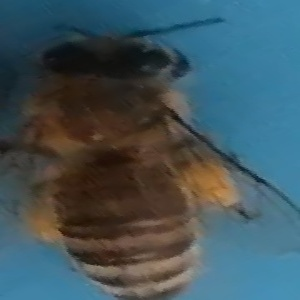bee: (7, 15, 285, 300)
